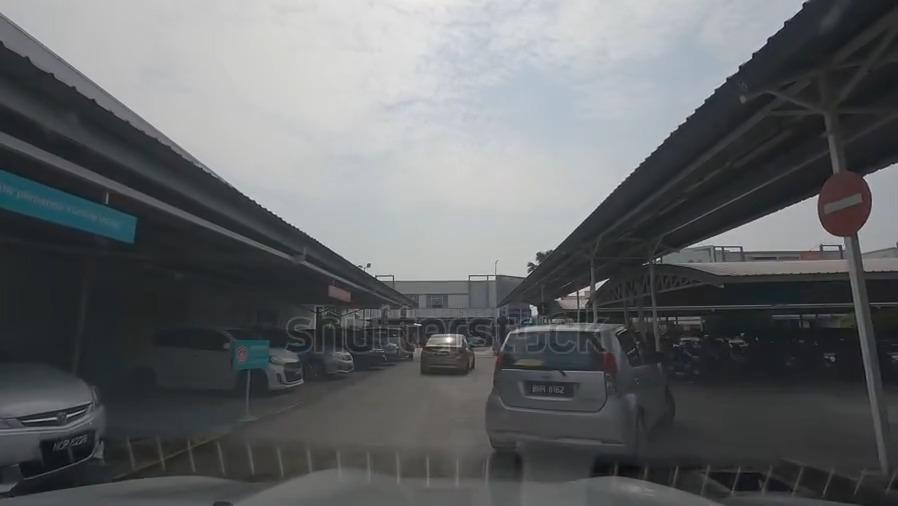car: (494, 329, 672, 454), (0, 347, 107, 479), (140, 326, 303, 397), (274, 323, 351, 376), (427, 334, 474, 372), (353, 337, 384, 368), (374, 335, 399, 358)
manhole: (701, 463, 791, 499)
person: (405, 334, 415, 358)
wheel: (236, 367, 267, 396), (130, 363, 152, 395), (303, 354, 326, 383)
